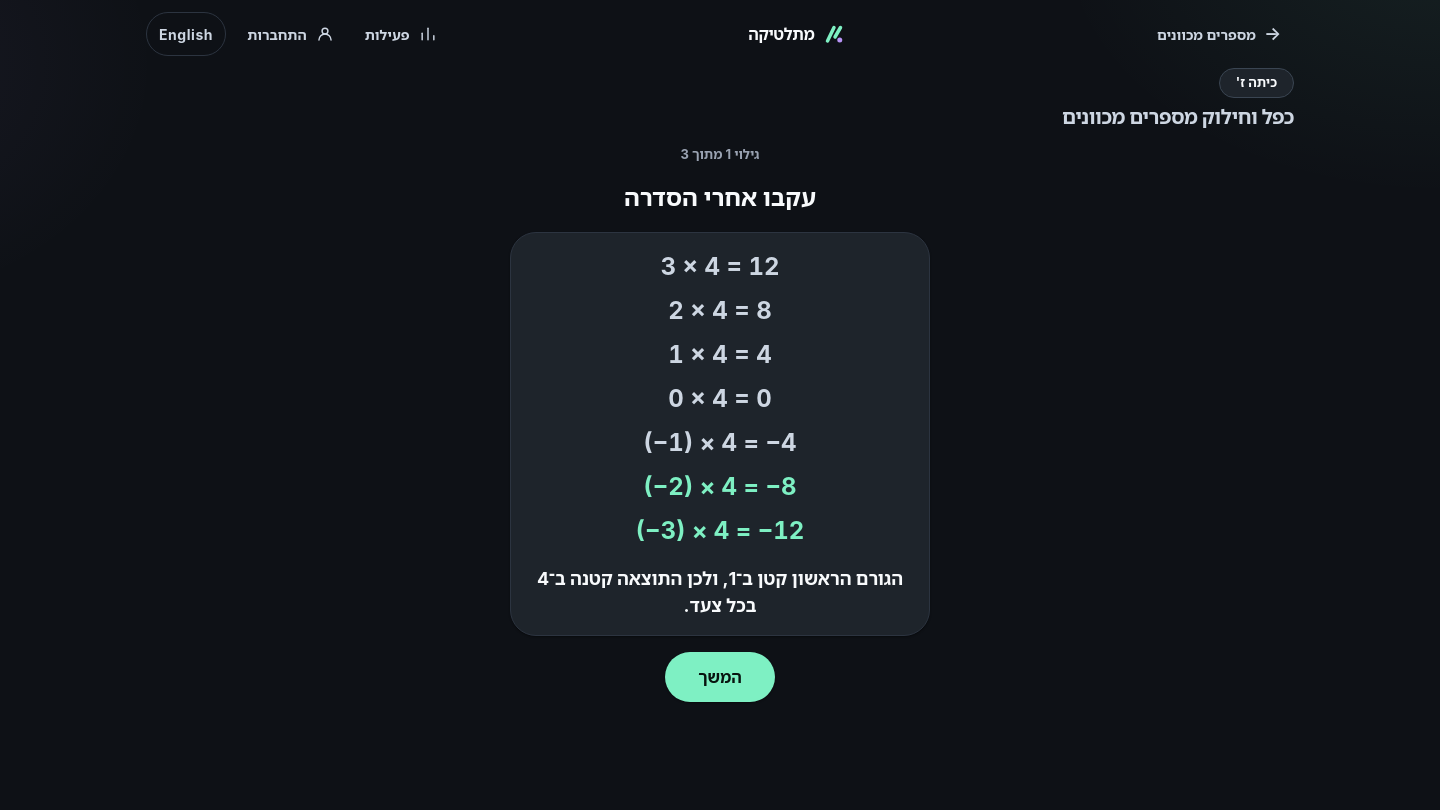
Test: Multiplying & Dividing Signed Numbers — discovery progression › shows one summary rule only after both patterns, with all four examples
Step 1. Click the button "המשך" → (720, 677), box [665,652,775,702]
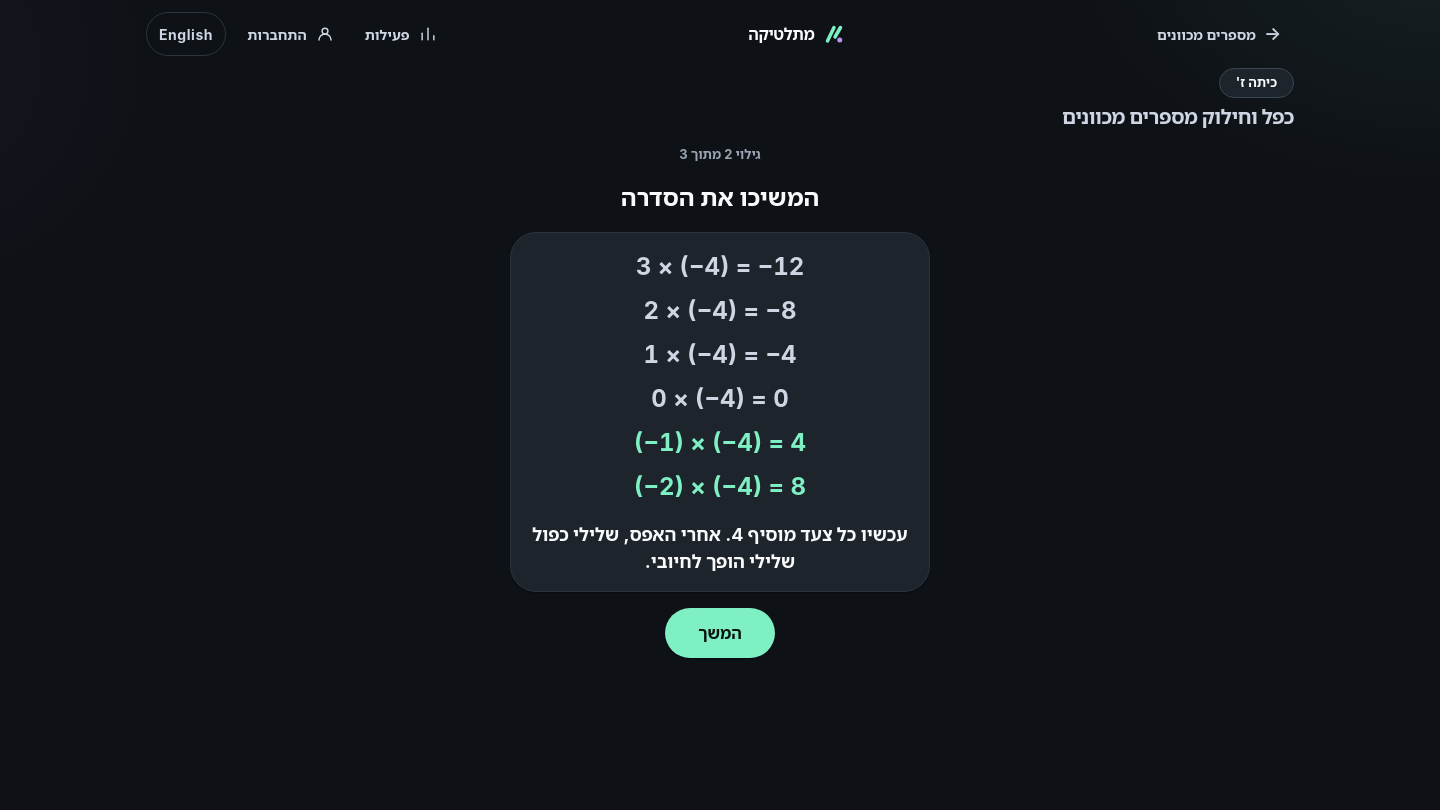
Step 2. Click the button "המשך" → (720, 633), box [665,608,775,658]
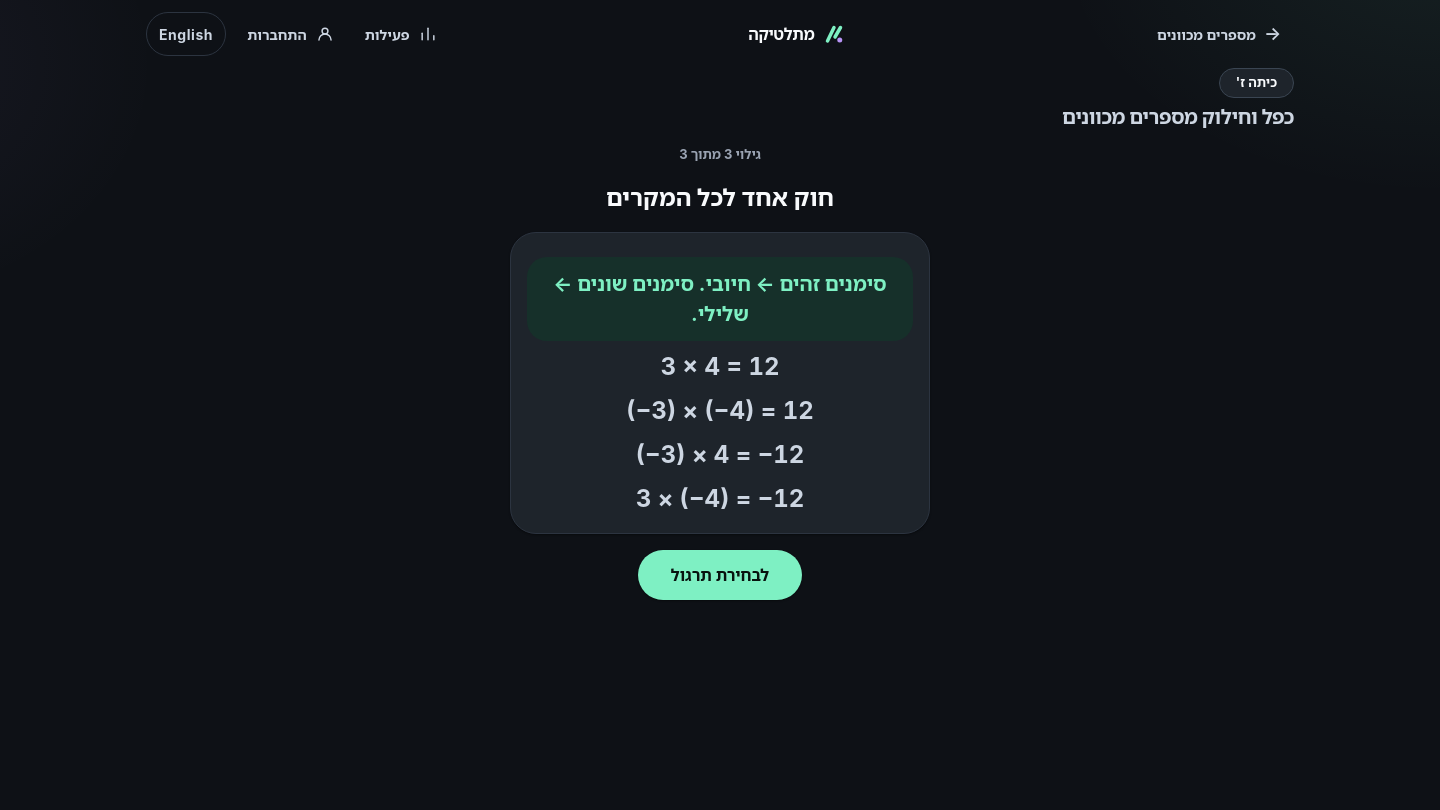
Expected: the text "סימנים זהים ← חיובי. סימנים שונים ← שלילי." is shown, [527,257,913,341]
Expected: the text "3 × 4 = 12" is shown, [661,352,780,381]
Expected: the text "(−3) × (−4) = 12" is shown, [626,396,814,425]
